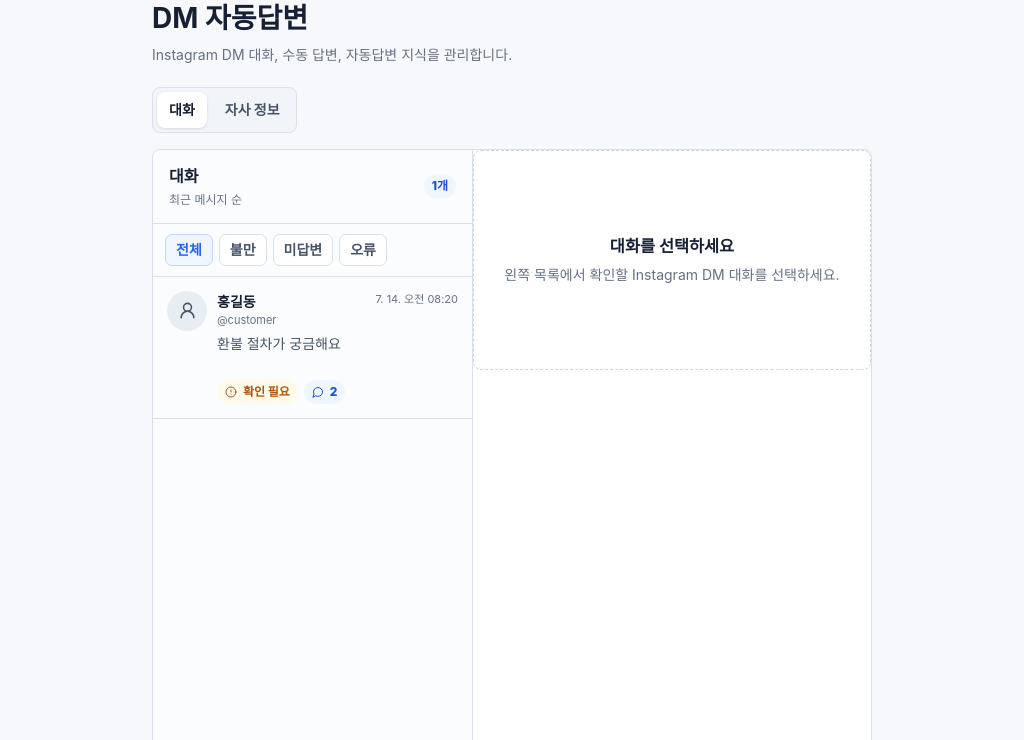
Test: DmAutomationPage › shows a Korean manual reply error for meta_graph_401
The width and height of the screenshot is (1024, 740).
Click the button with aria-label "홍길동 대화 열기" at (312, 348), box [153,277,472,419]
(page scrolled)
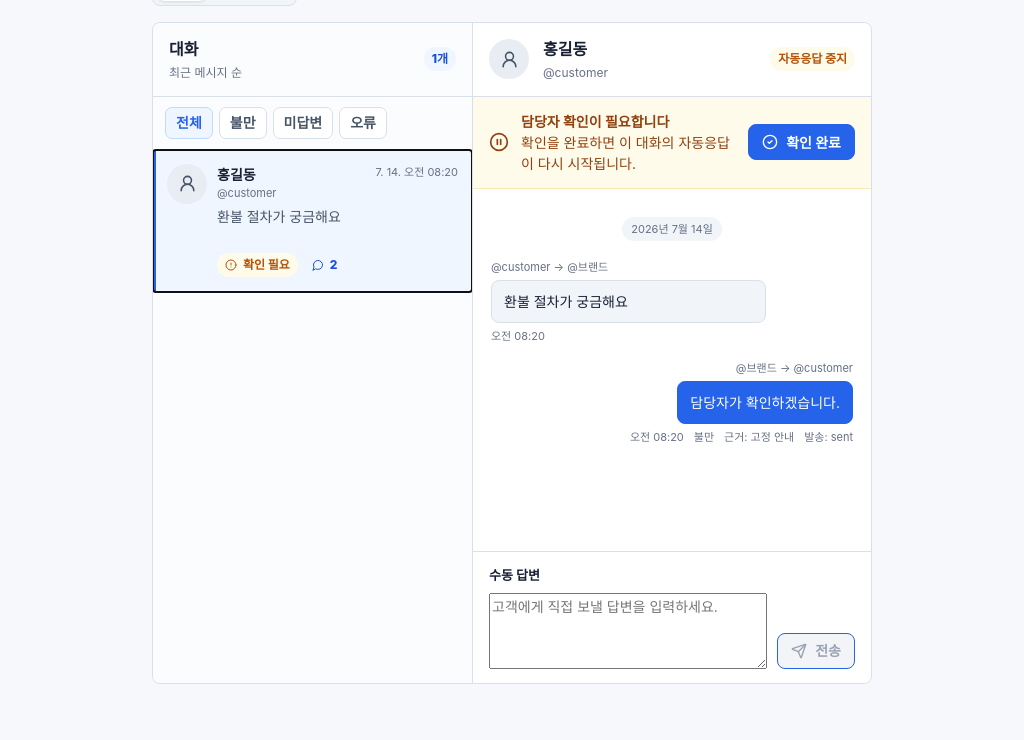
Type "직접 답변" into the text box labelled "수동 답변" at (628, 631), box [489,593,767,669]
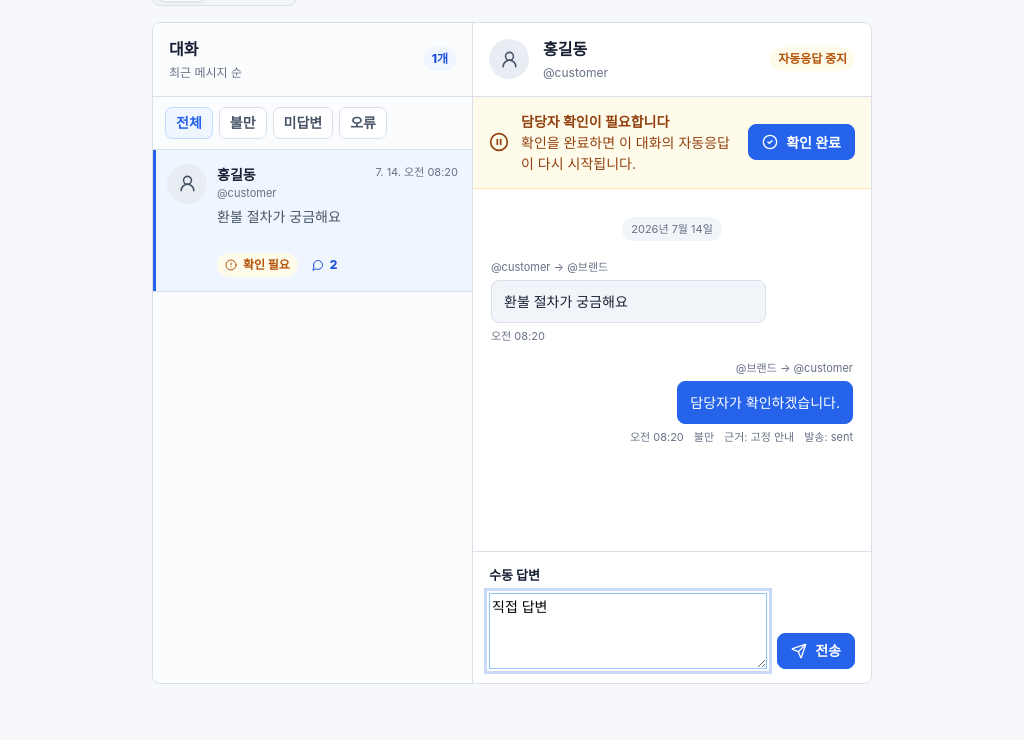
Click the button with aria-label "수동 답변 전송" at (816, 651), box [777,633,855,669]
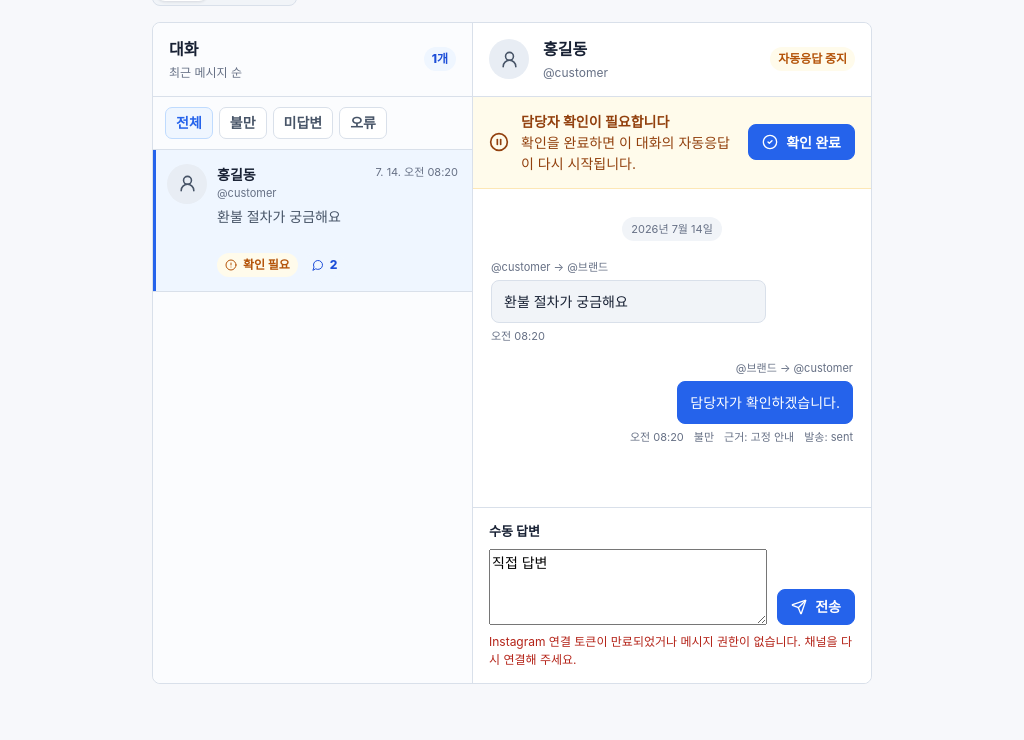
Check: the message reads "Instagram 연결 토큰이 만료되었거나 메시지 권한이 없습니다. 채널을 다시 연결해 주세요.", box [489,634,852,667]
